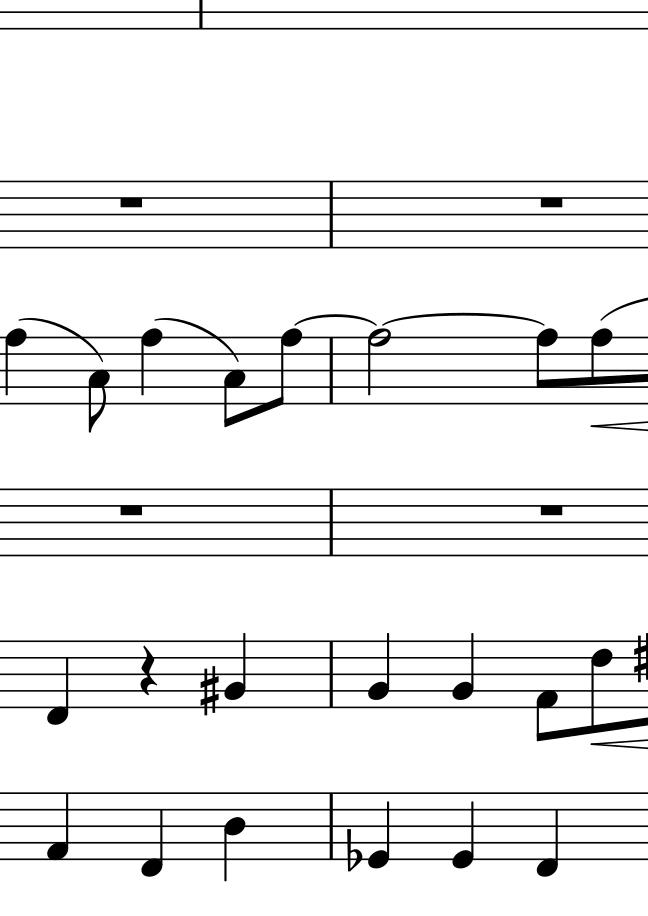2_8: (366, 326, 394, 408)
4_-1: (535, 791, 562, 880), (140, 790, 165, 882), (45, 638, 71, 726)
4_0: (368, 791, 394, 872), (451, 789, 475, 869)
4_1: (44, 790, 72, 865)
4_2: (366, 631, 392, 710), (224, 630, 249, 710), (451, 631, 476, 710)
4_4: (221, 791, 247, 882)
4_8: (139, 327, 165, 408), (4, 327, 30, 407)
8_1: (534, 638, 559, 745)
8_3: (86, 336, 112, 435), (222, 336, 247, 431)
8_6: (588, 639, 613, 735)
8_8: (267, 328, 304, 410), (589, 328, 616, 406), (535, 327, 559, 406)
Flat: (343, 827, 363, 874)
Rests1: (535, 192, 566, 211), (537, 501, 569, 517), (118, 194, 145, 212), (116, 503, 148, 518)
Rests4: (139, 645, 158, 697)
Sharp: (200, 664, 219, 719)
Single_barline: (324, 336, 342, 404), (324, 485, 341, 557), (325, 791, 340, 859), (325, 639, 339, 708), (326, 179, 339, 249)
Slur: (18, 316, 105, 364), (154, 317, 240, 363), (377, 312, 547, 325), (294, 312, 377, 328)
